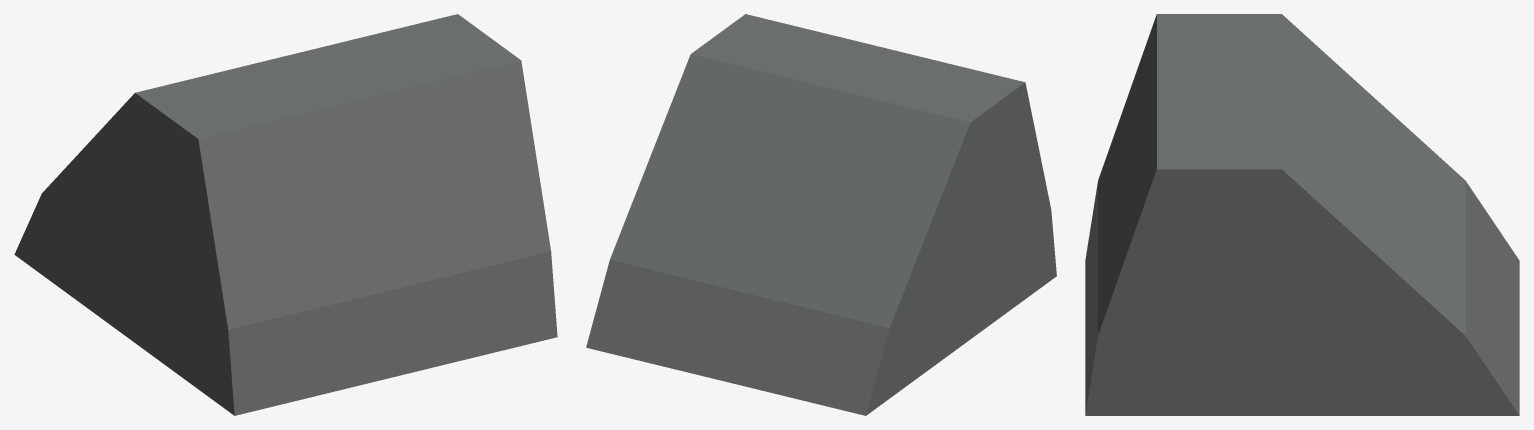
File: PlayerLeg.obj
3 views of the same model, side by side, from view 1: azimuth 30°, elevation 25°; view 2: azimuth 150°, elevation 25°; view 3: azimuth 270°, elevation 25° (orthographic). The views are drawn at different scales.
Parts seen in each view (by area): view 1: 右足_立方体.001; view 2: 右足_立方体.001; view 3: 右足_立方体.001.
Part boxes in pixels (box(x1,y1,x2,y2)): 右足_立方体.001: box(14, 14, 557, 415); 右足_立方体.001: box(586, 14, 1056, 415); 右足_立方体.001: box(1085, 14, 1519, 415).
Size of the model in its own units: 1.31 by 0.967 by 1.54.
1 material, 1 textured.
